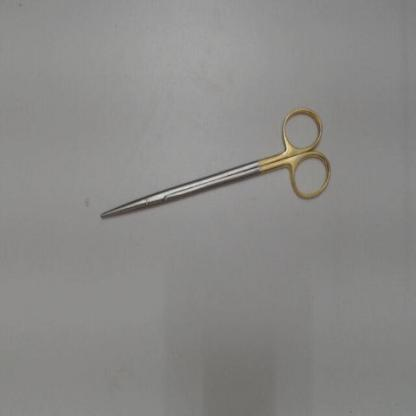7 Metzenbaum Scissors: (98, 102, 336, 222)
